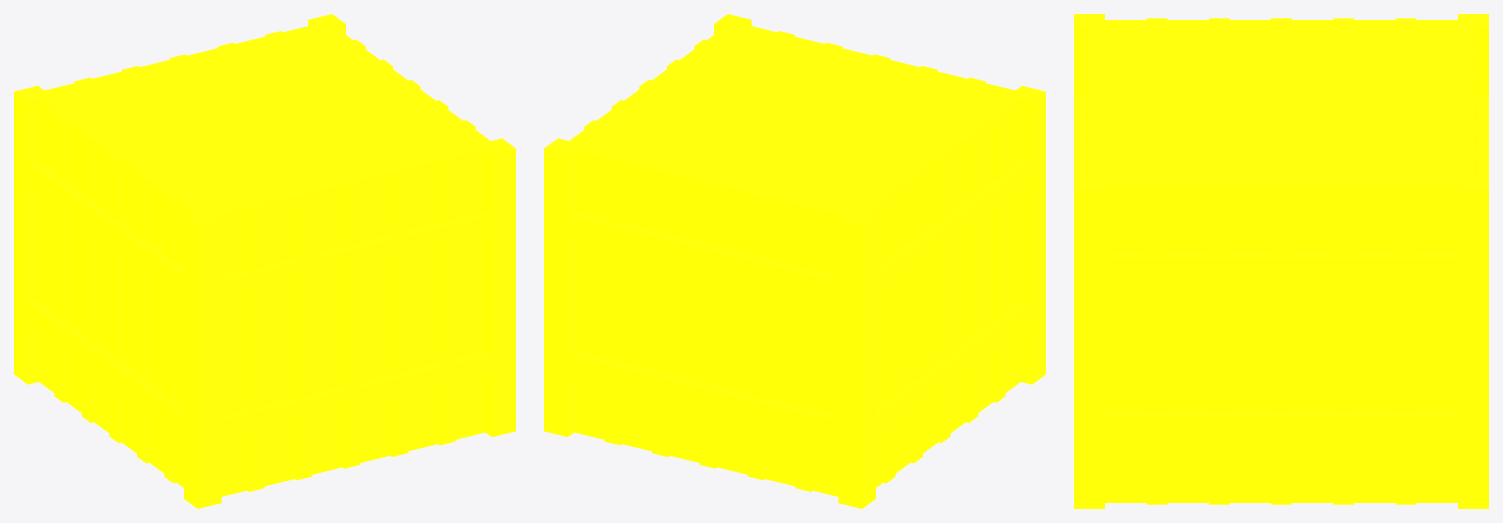
Rendered from skyscraper-part-middle.glb.
3 views of the same model, side by side, from view 1: azimuth 30°, elevation 25°; view 2: azimuth 150°, elevation 25°; view 3: azimuth 270°, elevation 25° (orthographic). The views are drawn at different scales.
Visible parts, largest first — view 1: skyscraper-part-middle; view 2: skyscraper-part-middle; view 3: skyscraper-part-middle.
Boxes of the visible parts, <box> form: skyscraper-part-middle: <box>14,14,515,508</box>; skyscraper-part-middle: <box>544,14,1045,508</box>; skyscraper-part-middle: <box>1074,14,1488,508</box>.
Bounding box in the file's own units: 20 × 17 × 20.
Materials: 1 (1 with a texture image).
